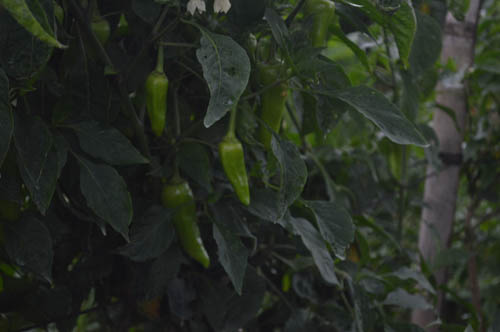ChiliPepper: (163, 185, 207, 264), (215, 141, 251, 203), (257, 81, 284, 149), (147, 74, 171, 137)
